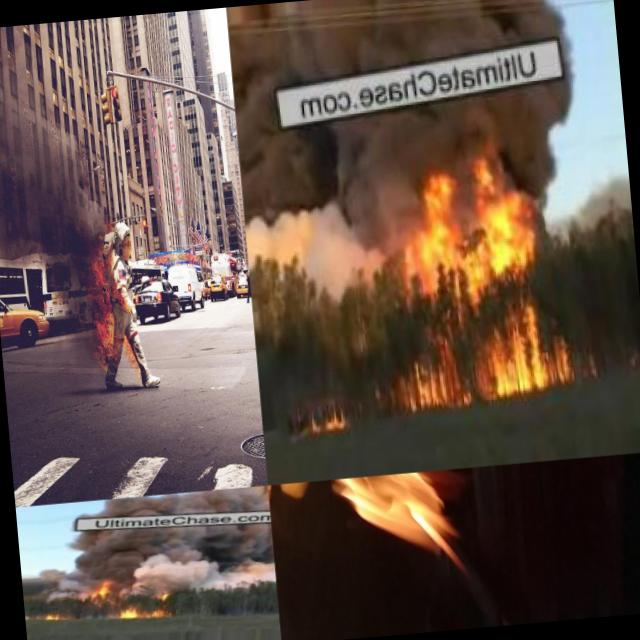fire: (268, 466, 488, 640), (407, 155, 542, 292), (481, 316, 580, 394), (88, 247, 121, 374), (403, 354, 469, 408), (298, 395, 351, 435), (121, 603, 171, 621), (120, 322, 138, 370), (94, 578, 121, 594), (43, 608, 68, 622)
smoke: (237, 117, 430, 280), (121, 525, 272, 597), (0, 178, 107, 256), (0, 130, 88, 189), (57, 250, 97, 366), (31, 530, 94, 600), (0, 78, 52, 139)
